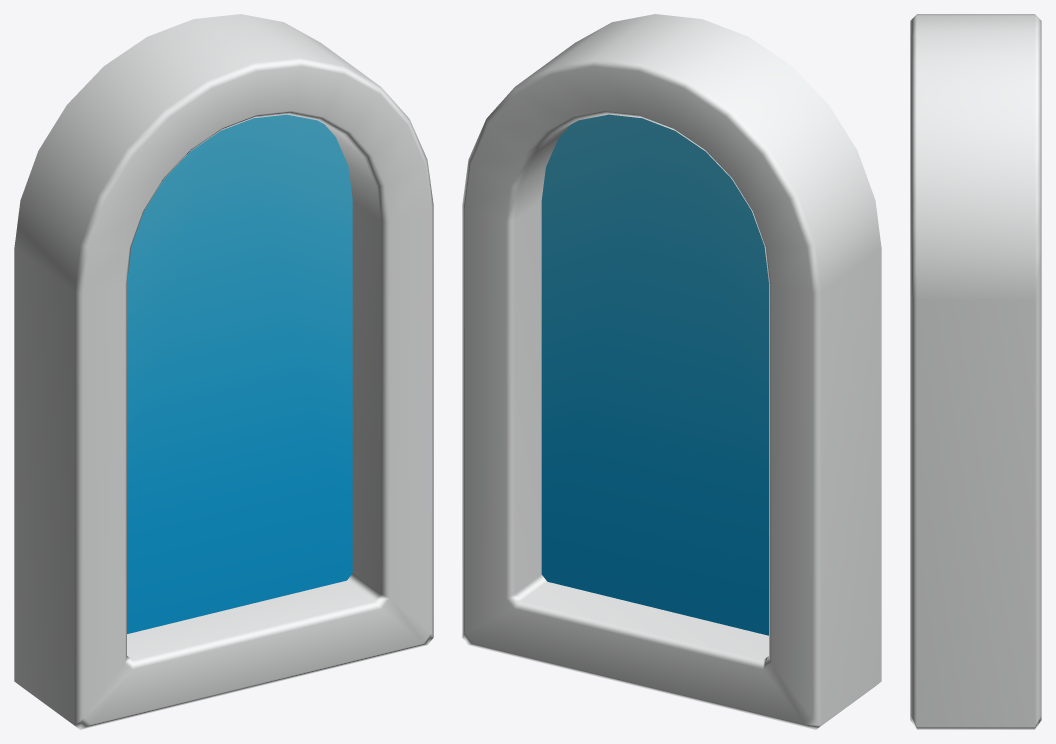
Rendered from Window_White_17.glb.
The picture shows the model from 3 angles, left to right: view 1: azimuth 30°, elevation 25°; view 2: azimuth 150°, elevation 25°; view 3: azimuth 270°, elevation 25°; orthographic projection.
Visible parts, largest first — view 1: Window_White_17; view 2: Window_White_17; view 3: Window_White_17.
Part boxes in pixels (box(x1,y1,x2,y2)): Window_White_17: box(14, 14, 433, 729); Window_White_17: box(462, 14, 881, 729); Window_White_17: box(910, 14, 1041, 729).
Size of the model in its own units: 1.24 by 2.07 by 0.4.
2 materials, 2 textured.
